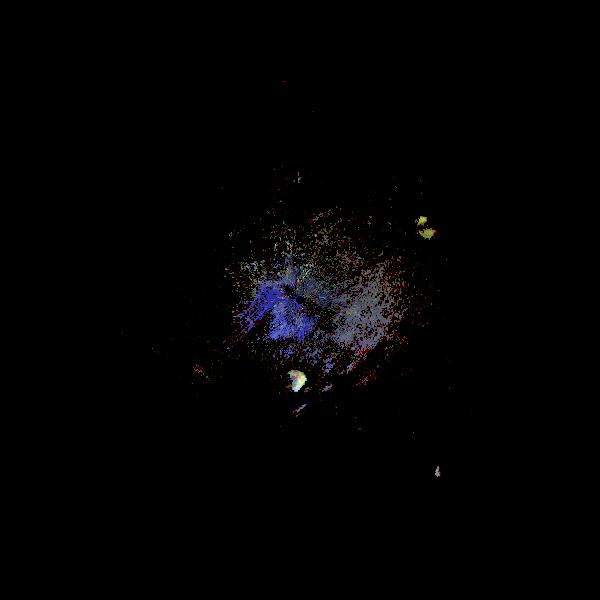roost: (414, 204, 453, 243), (431, 454, 467, 490), (282, 364, 315, 397)
